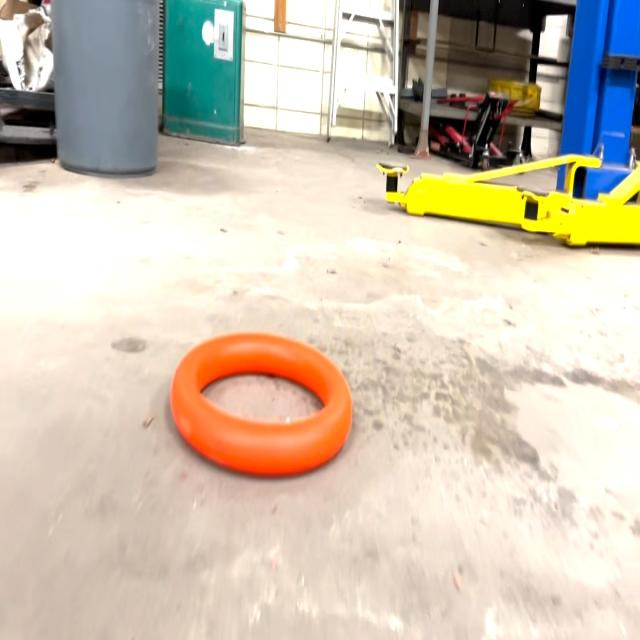note: (170, 336, 354, 482)
